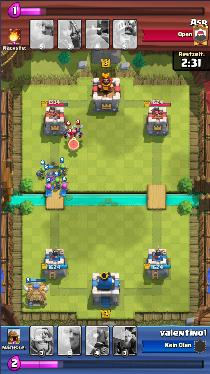ally_archer: (44, 184, 54, 197), (61, 184, 69, 196)
ally_goblin_hut: (20, 283, 51, 308)
ally_musketeer: (45, 168, 56, 181)
ally_spear_goblin: (57, 165, 68, 176), (36, 166, 46, 178), (54, 178, 60, 189)
enemy_minion: (74, 126, 82, 137), (63, 129, 72, 138)
